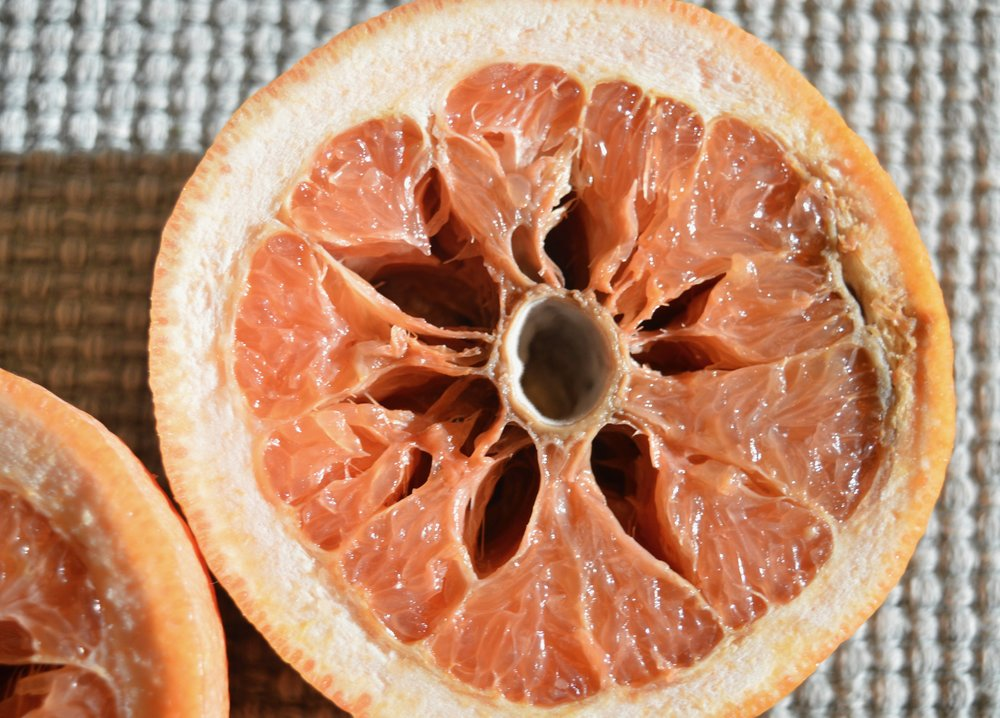damaged_grapefruit: (188, 65, 911, 704)
